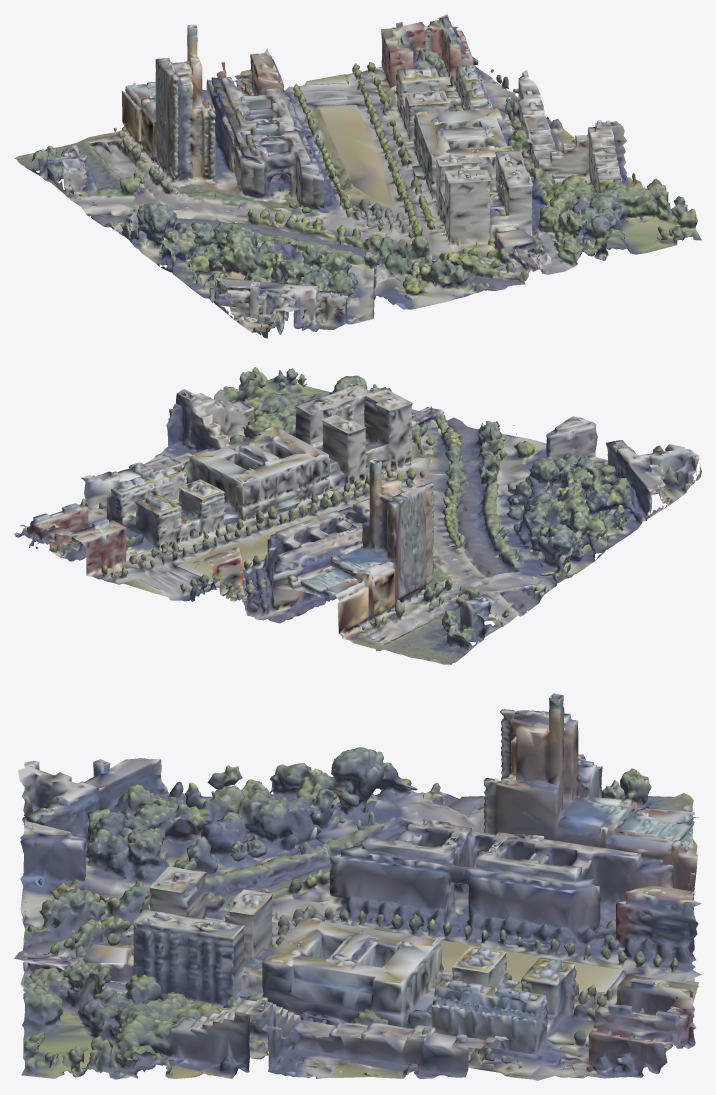
File: tile-3894_58182.glb
The picture shows the model from 3 angles, top to bottom: view 1: azimuth 30°, elevation 25°; view 2: azimuth 150°, elevation 25°; view 3: azimuth 270°, elevation 25°; orthographic projection. The views are drawn at different scales.
Visible parts, largest first — view 1: world; view 2: world; view 3: world.
Boxes of the visible parts, box(x1,y1,x2,y2) form: world: box(14, 14, 701, 338); world: box(14, 367, 701, 664); world: box(14, 693, 701, 1080).
Bounding box in the file's own units: 365 × 114 × 371.
